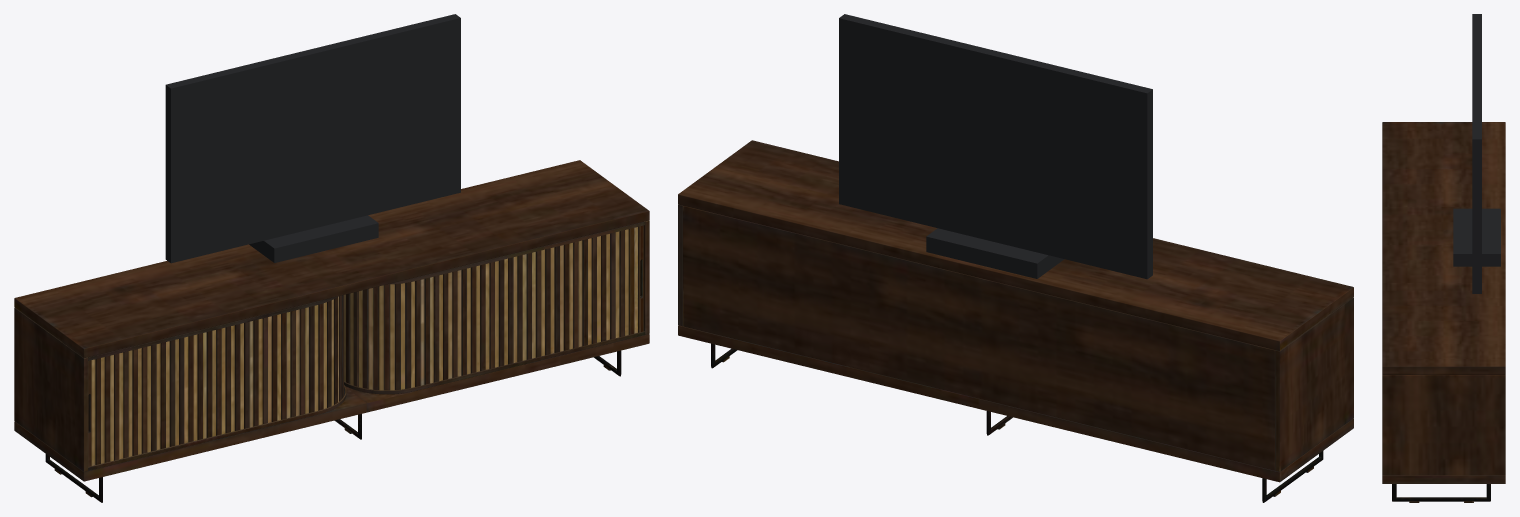
Rendered from tv_unit.glb.
3 renders of one model, left to right at view 1: azimuth 30°, elevation 25°; view 2: azimuth 150°, elevation 25°; view 3: azimuth 270°, elevation 25°, orthographic. The views are drawn at different scales.
Parts seen in each view (by area): view 1: modern_wooden_cabinet_body, tv_screen, modern_wooden_cabinet_door_r, modern_wooden_cabinet_door_l, tv_foot; view 2: modern_wooden_cabinet_body, tv_screen, tv_foot; view 3: modern_wooden_cabinet_body, tv_screen, tv_foot.
Part boxes in pixels (bbox=[...]): modern_wooden_cabinet_body: bbox=[14, 160, 649, 502]; tv_screen: bbox=[165, 14, 460, 263]; modern_wooden_cabinet_door_r: bbox=[344, 225, 643, 390]; modern_wooden_cabinet_door_l: bbox=[88, 295, 343, 466]; tv_foot: bbox=[249, 215, 378, 262]; modern_wooden_cabinet_body: bbox=[678, 140, 1353, 502]; tv_screen: bbox=[839, 14, 1152, 279]; tv_foot: bbox=[926, 228, 1064, 278]; modern_wooden_cabinet_body: bbox=[1382, 122, 1505, 502]; tv_screen: bbox=[1472, 14, 1481, 293]; tv_foot: bbox=[1453, 208, 1500, 266].
Size of the model in its own units: 2.44 by 1.46 by 0.52.
Materials: 3 (1 with a texture image).
